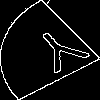Y: (25, 25, 100, 82)
